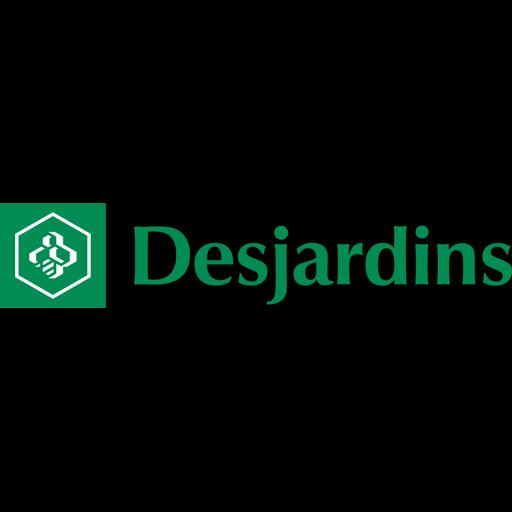Desjardins: (0, 203, 512, 308)
